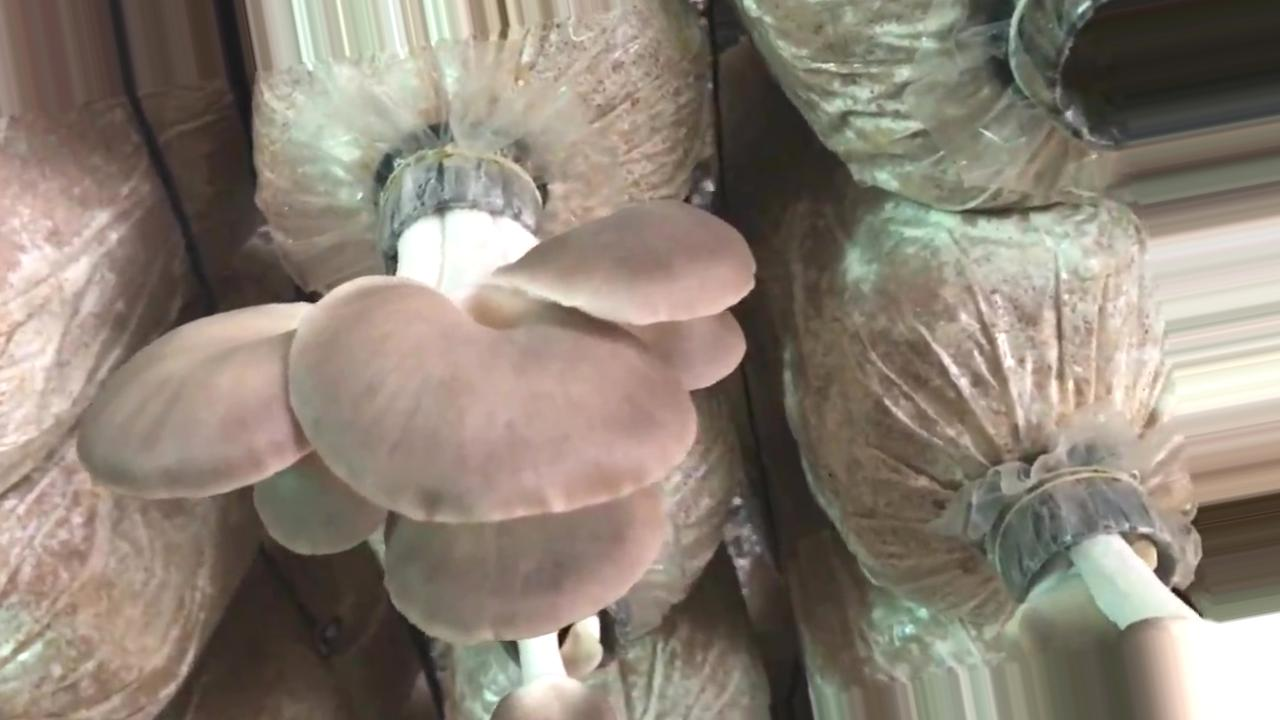nam: (78, 153, 757, 641), (1004, 479, 1273, 719), (494, 612, 620, 719)
